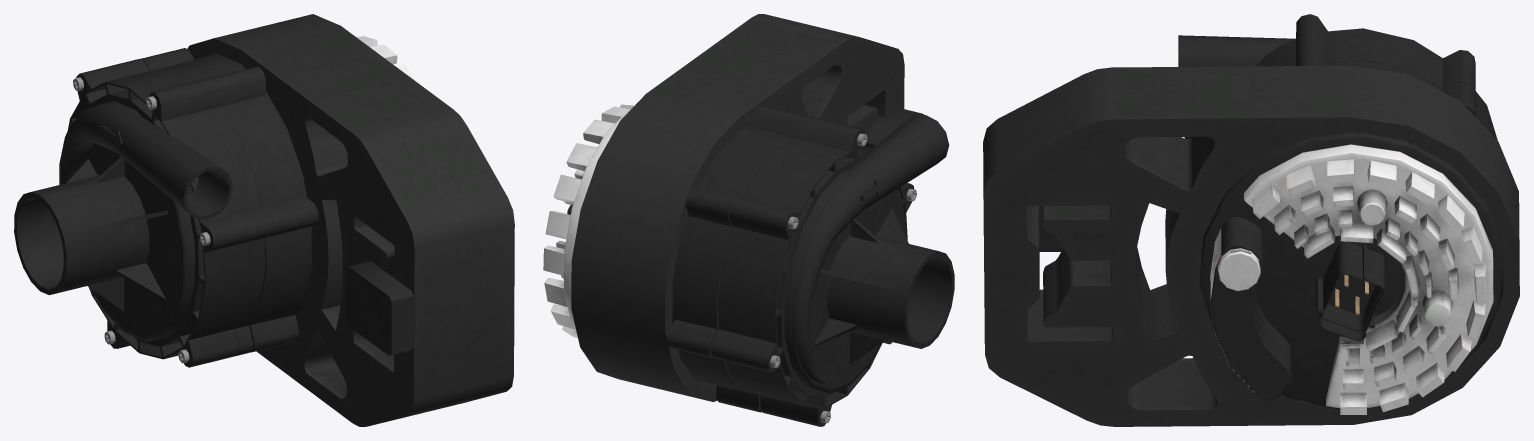
Rendered from E5_电池热管理水泵.FBX.
3 views of the same model, side by side, from view 1: azimuth 30°, elevation 25°; view 2: azimuth 150°, elevation 25°; view 3: azimuth 270°, elevation 25° (orthographic). The views are drawn at different scales.
Parts seen in each view (by area): view 1: SB02_3, SB02_1, SB02_2; view 2: SB02_3, SB02_1, SB02_2; view 3: SB02_3, SB02_1, SB02_2.
Part boxes in pixels (box(x1,y1,x2,y2)): SB02_3: box(141, 14, 514, 426); SB02_1: box(14, 62, 258, 367); SB02_2: box(125, 59, 274, 356); SB02_3: box(543, 14, 923, 412); SB02_1: box(724, 115, 954, 426); SB02_2: box(710, 115, 819, 415); SB02_3: box(983, 45, 1519, 426); SB02_1: box(1178, 14, 1497, 139); SB02_2: box(1288, 37, 1486, 128).
Size of the model in its own units: 7.41 by 5.62 by 8.83.
